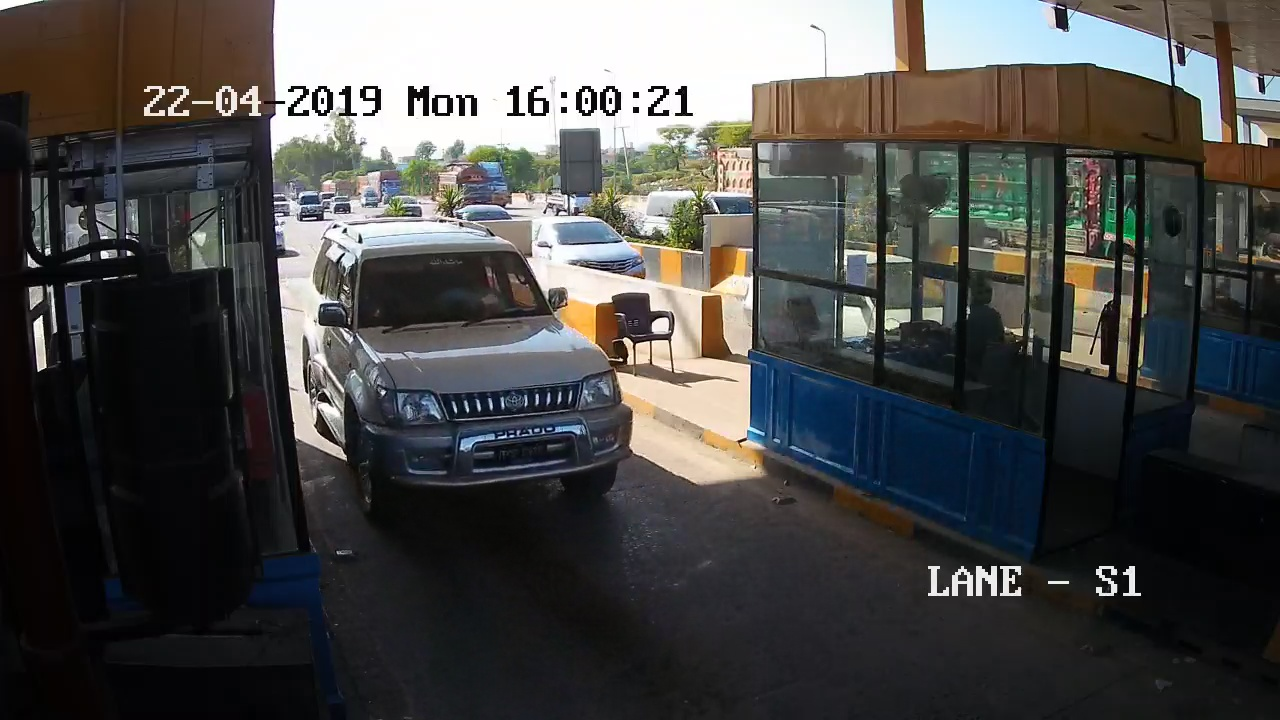car: (299, 224, 645, 537)
